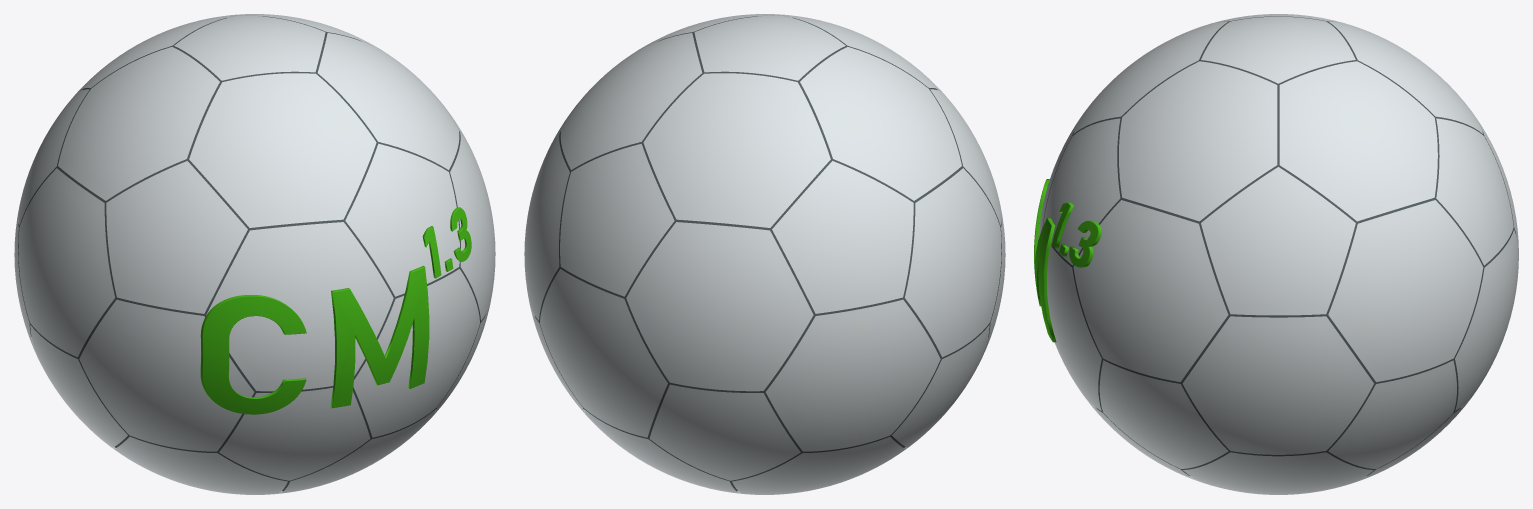
Rendered from cm-chrome-football.glb.
3 views of the same model, side by side, from view 1: azimuth 30°, elevation 25°; view 2: azimuth 150°, elevation 25°; view 3: azimuth 270°, elevation 25° (orthographic).
Parts seen in each view (by area): view 1: Chrome football panels, Emerald chrome CM, Recessed seam backing, Emerald chrome 1.3; view 2: Chrome football panels, Recessed seam backing; view 3: Chrome football panels, Recessed seam backing, Emerald chrome CM, Emerald chrome 1.3.
Boxes of the visible parts, x1,y1,x2,y2 form: Chrome football panels: [14, 14, 495, 494]; Emerald chrome CM: [200, 265, 429, 414]; Recessed seam backing: [18, 16, 484, 491]; Emerald chrome 1.3: [422, 207, 471, 278]; Chrome football panels: [524, 14, 1005, 494]; Recessed seam backing: [535, 16, 1001, 491]; Chrome football panels: [1038, 14, 1518, 494]; Recessed seam backing: [1042, 16, 1515, 475]; Emerald chrome CM: [1034, 179, 1056, 342]; Emerald chrome 1.3: [1052, 202, 1101, 267].
Bounding box in the file's own units: 2 × 2 × 2.02.
